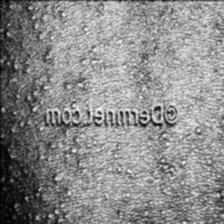Toxin: (63, 135, 224, 224), (0, 0, 54, 224), (62, 0, 144, 98)
